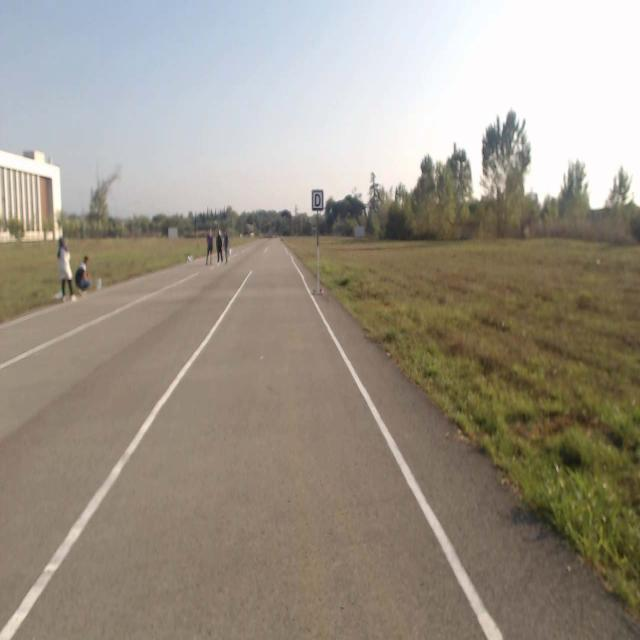durak: (312, 189, 324, 210)
